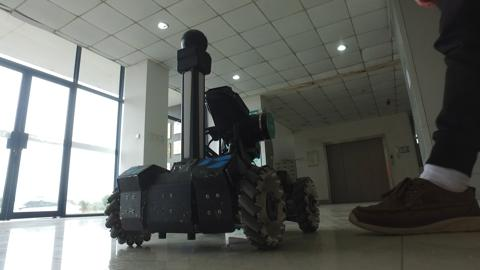chariot: (90, 29, 327, 253)
